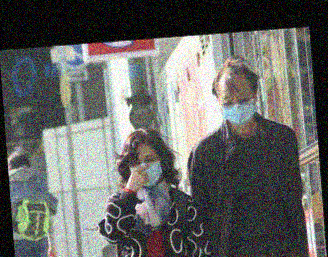with_mask: (128, 153, 164, 190), (218, 90, 256, 124)
